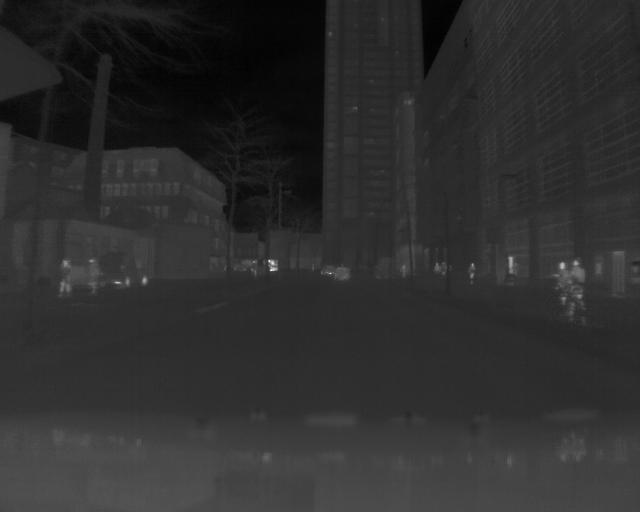car: (98, 251, 149, 290)
person: (572, 258, 586, 319), (556, 258, 569, 309), (58, 257, 73, 299), (467, 260, 478, 291)
